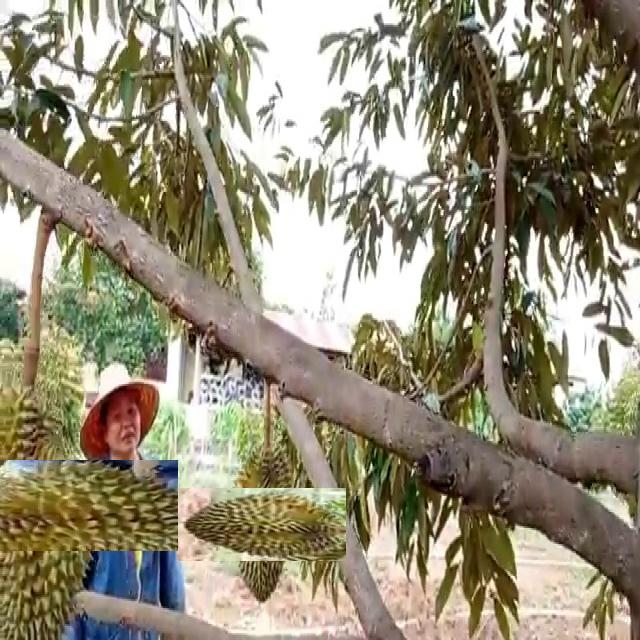durian: (0, 416, 135, 594), (201, 464, 322, 586)
